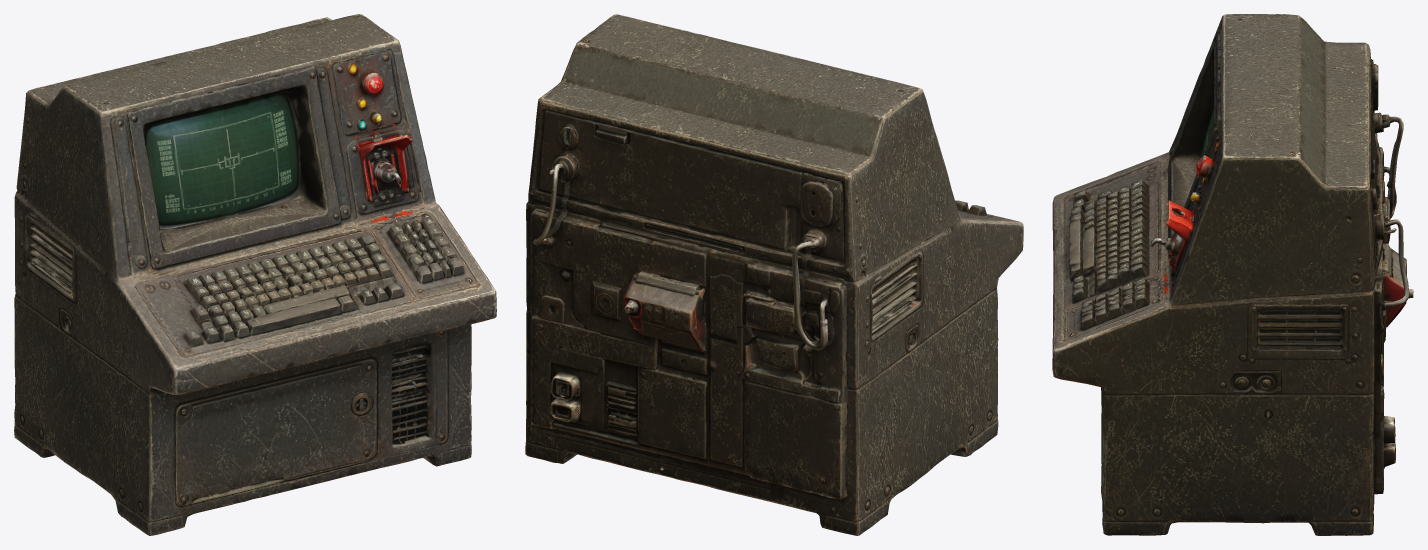
The model's file is BKI_Terminal.fbx.
The picture shows the model from 3 angles, left to right: view 1: azimuth 30°, elevation 25°; view 2: azimuth 150°, elevation 25°; view 3: azimuth 270°, elevation 25°; orthographic projection. The views are drawn at different scales.
Parts seen in each view (by area): view 1: texture_mapping; view 2: texture_mapping; view 3: texture_mapping.
Part boxes in pixels (bbox=[...]): texture_mapping: bbox=[14, 14, 496, 535]; texture_mapping: bbox=[525, 14, 1023, 535]; texture_mapping: bbox=[1052, 14, 1413, 535].
Size of the model in its own units: 0.9093 by 0.8743 by 0.9987.
1 material, 1 textured.
